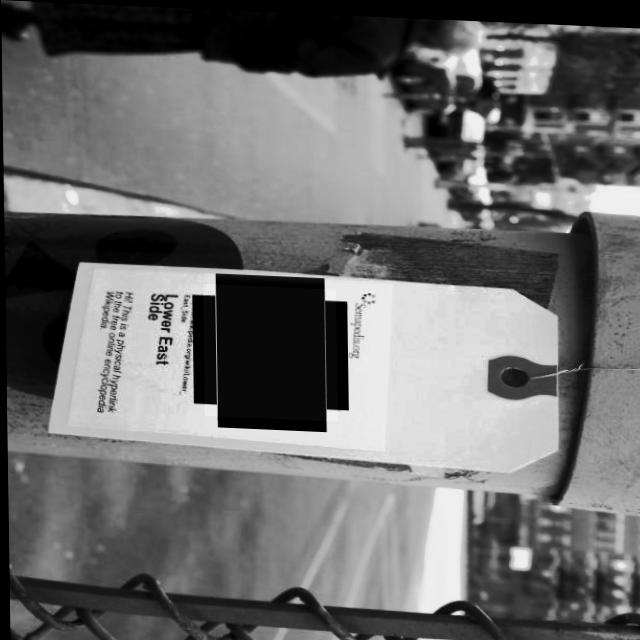qr_code: (201, 282, 336, 419)
